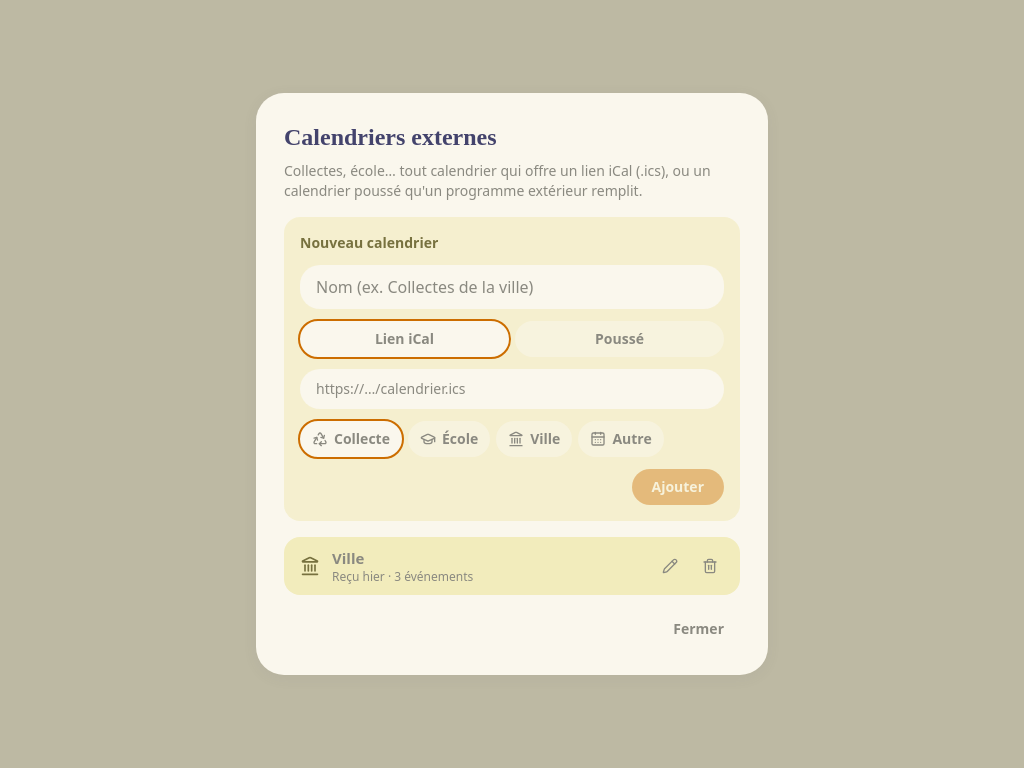
la source ne se choisit qu'à la création
expect the button "Poussé" is shown: met, box [515,321,724,357]
Click the button named "Modifier Ville" at coordinates (670, 566), box [656,552,684,580]
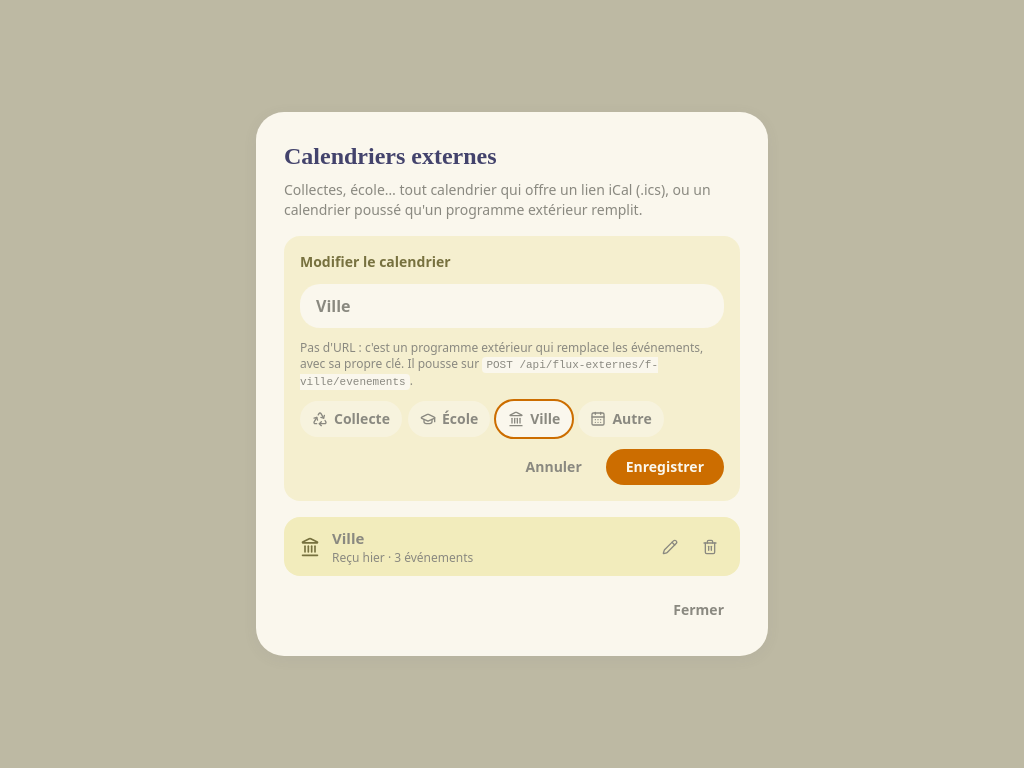
expect the button "Poussé" is not shown: met
expect the text "POST /api/flux-externes/f-ville/evenements" is shown: met, box [300,357,658,390]
